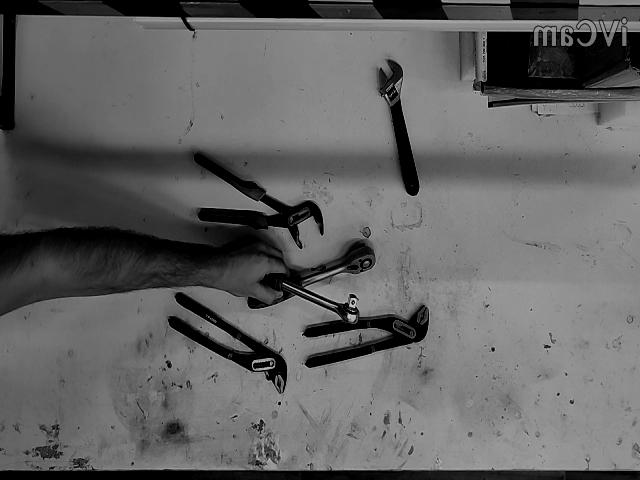Adjustable spanner: (194, 153, 324, 248), (379, 60, 420, 195)
Gas wrench: (169, 293, 288, 394), (304, 305, 429, 366)
Hand: (0, 228, 289, 315)
Ratchet: (248, 242, 376, 309), (261, 273, 359, 323)
